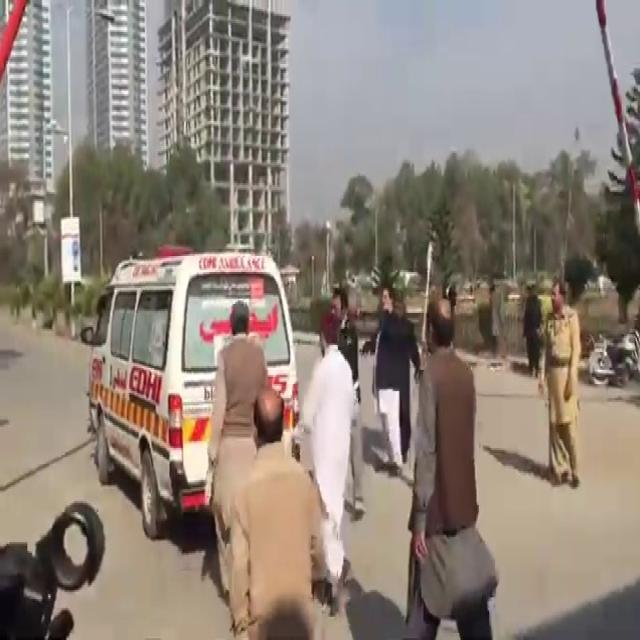ambulance: (88, 212, 314, 507)
